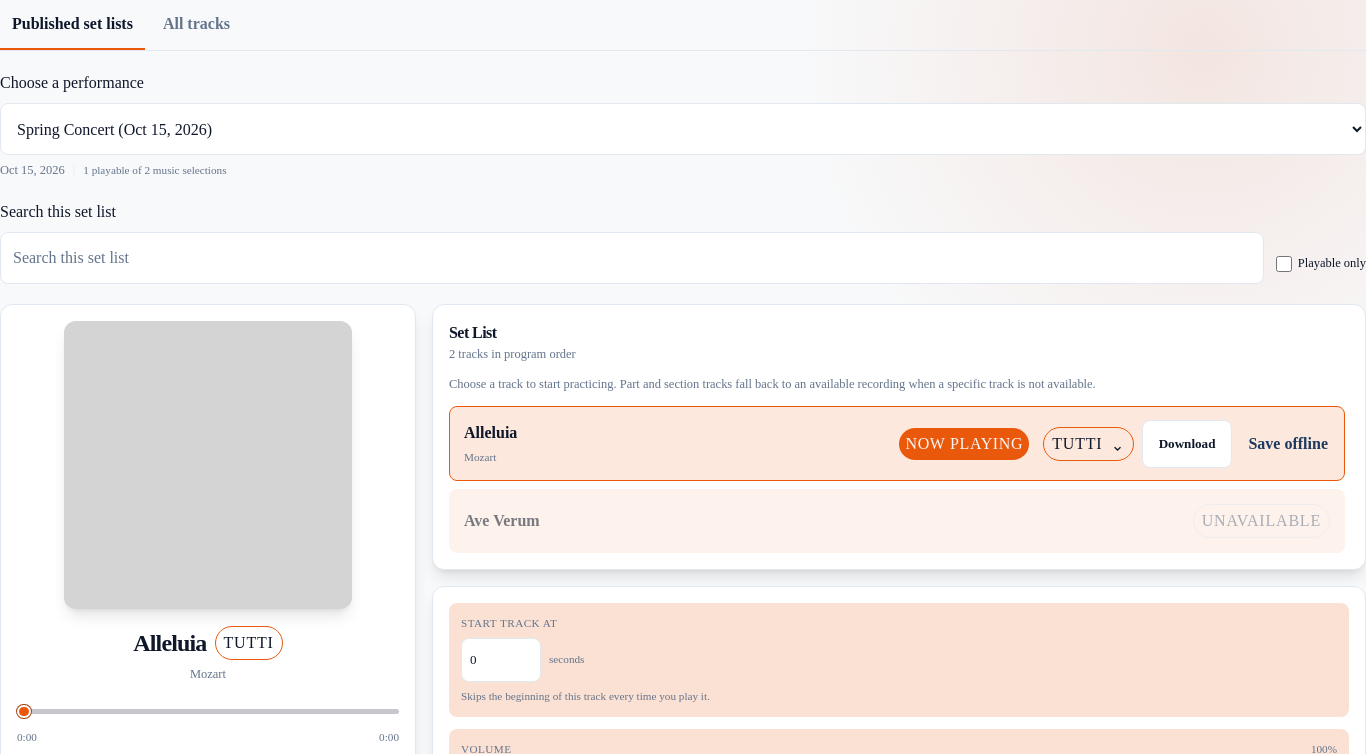
Scenario: MemberPracticeView playable-only filter › filters out unplayable tracks when toggled on
Click the tab "All tracks": point(196, 25) [151, 0, 242, 50]
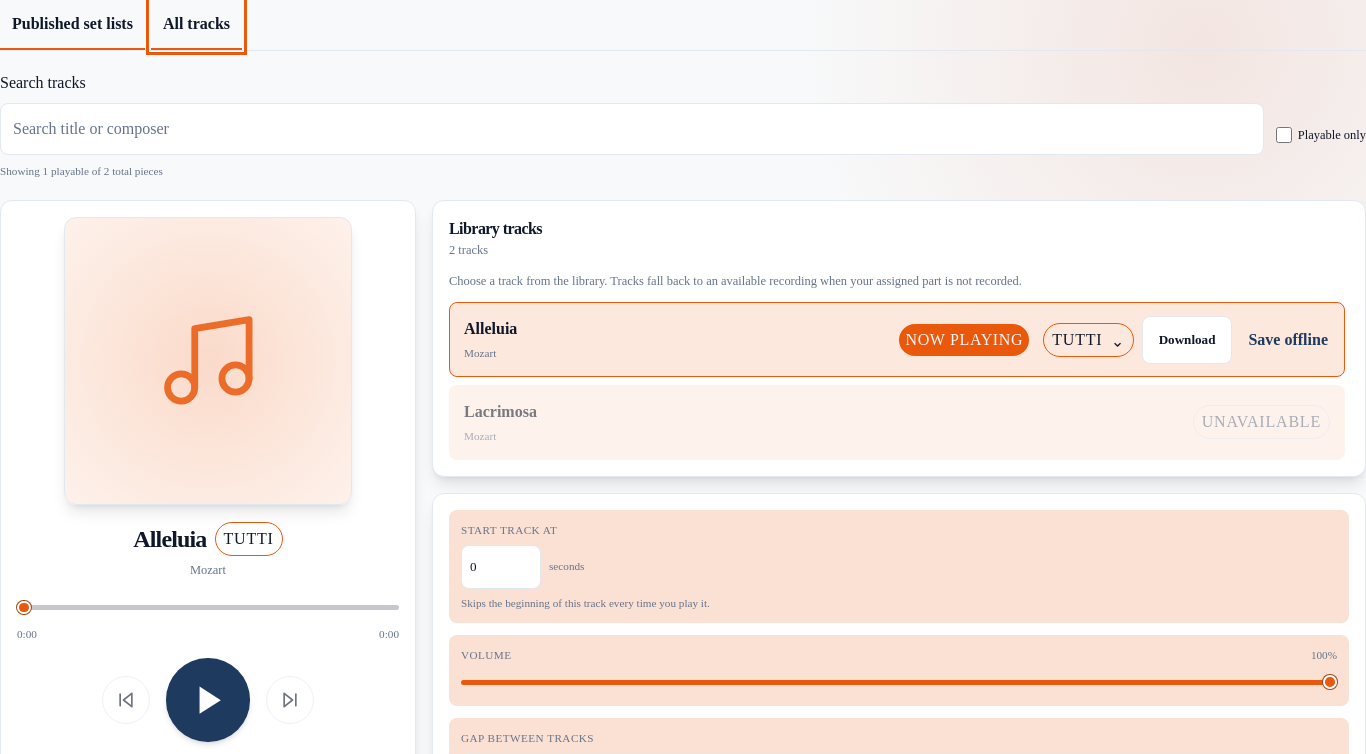
Now the text "Showing 1 playable of 2 total pieces" is shown, box [0, 165, 163, 177]
Now the text "Lacrimosa" is shown, box [464, 400, 537, 424]
Click the checkbox labelled "Playable only": point(1284, 135) [1276, 127, 1292, 143]
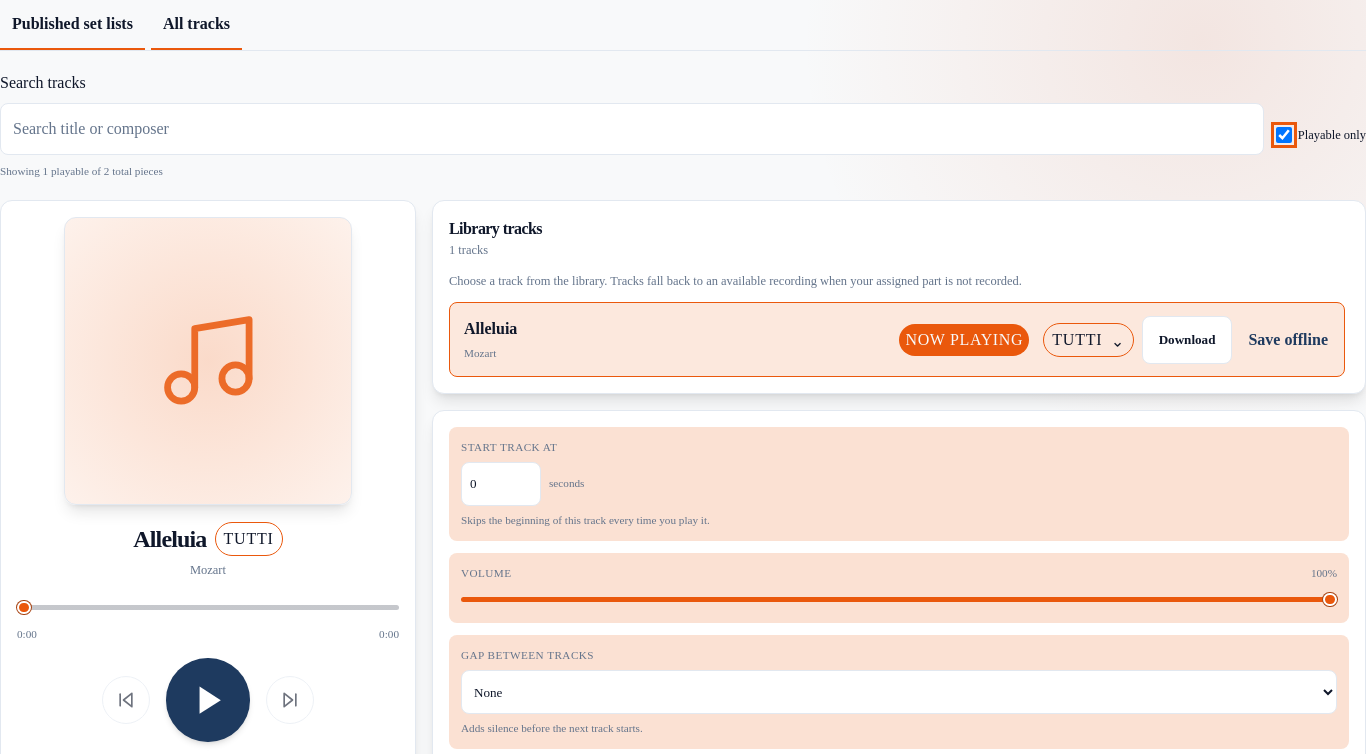
Expected: the heading "Alleluia" is shown, [133, 521, 207, 557]
Now the checkbox labelled "Playable only" is checked, box [1276, 127, 1292, 143]
Now the button "Lacrimosa" is gone
